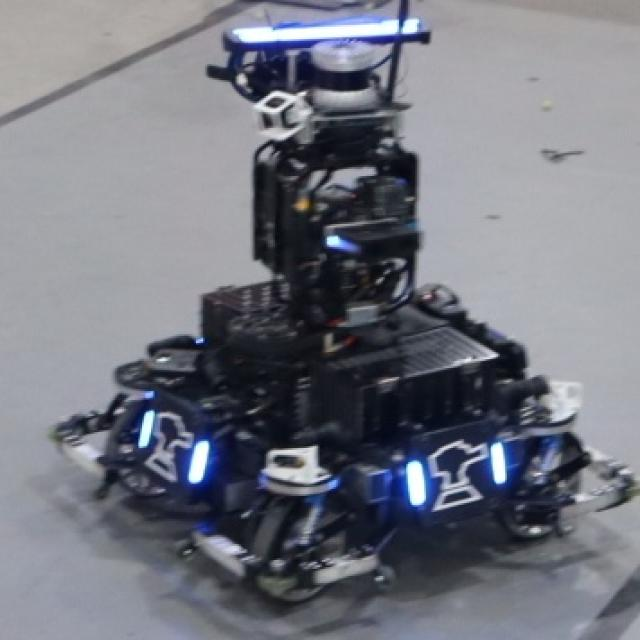Bs: (403, 434, 507, 512), (137, 395, 210, 489)
